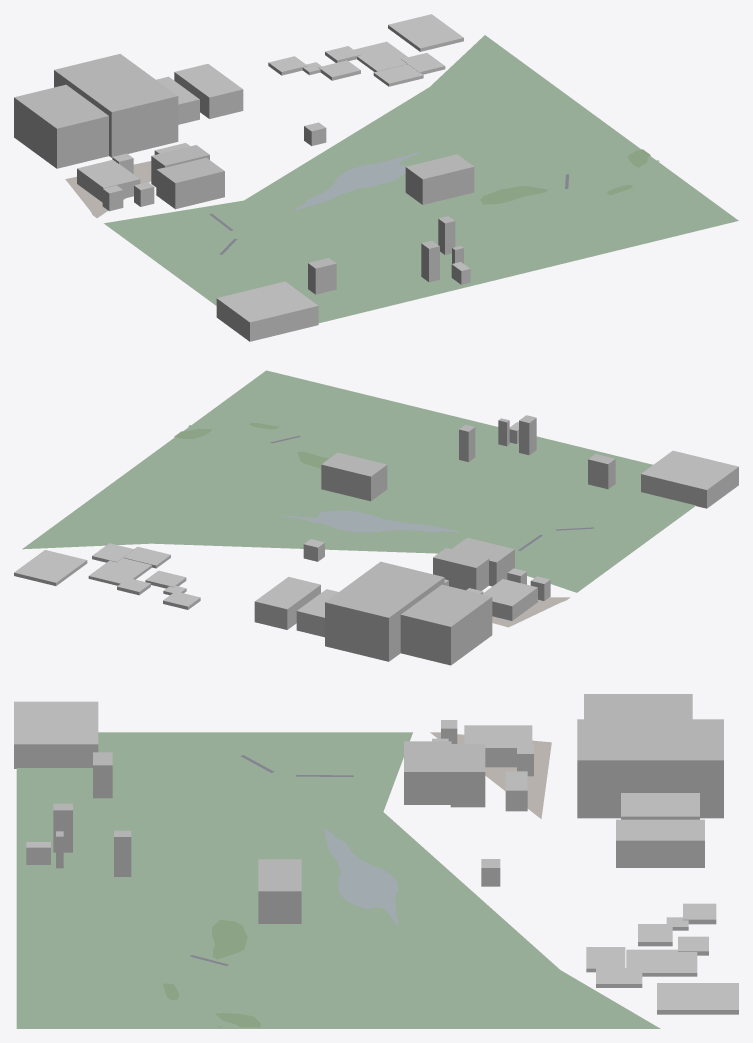
File: 125_80_mid.glb
3 renders of one model, top to bottom at view 1: azimuth 30°, elevation 25°; view 2: azimuth 150°, elevation 25°; view 3: azimuth 270°, elevation 25°, orthographic. The views are drawn at different scales.
Bounding box in the file's own units: 512 × 46.43 × 517.
